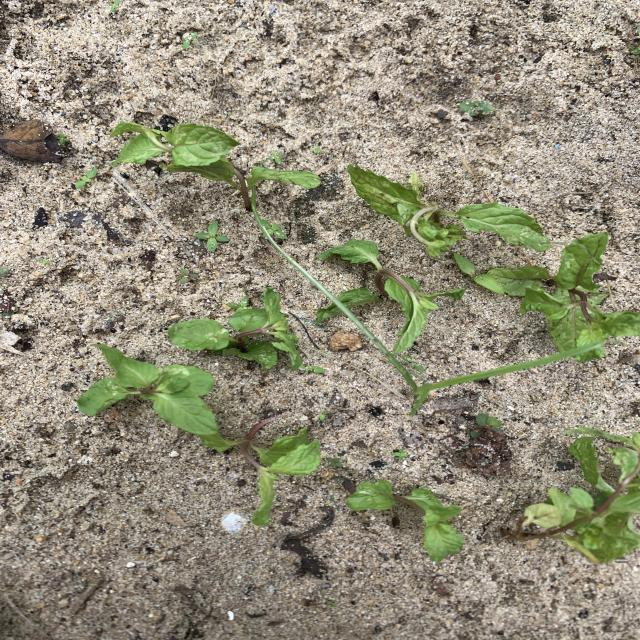crop: (490, 233, 639, 360), (349, 166, 550, 255), (318, 239, 463, 352), (522, 428, 639, 563), (112, 123, 319, 197), (78, 344, 219, 437), (203, 422, 319, 523), (169, 287, 303, 368), (346, 481, 463, 562)
weed: (252, 211, 582, 414), (454, 254, 505, 294), (196, 221, 227, 251), (471, 413, 502, 437), (260, 219, 287, 241), (460, 100, 494, 115), (76, 168, 96, 187), (179, 269, 204, 283), (182, 31, 198, 48), (298, 365, 326, 374), (393, 449, 408, 459), (328, 457, 342, 467), (57, 133, 70, 143), (110, 1, 120, 11), (319, 411, 329, 421), (110, 312, 123, 318)
